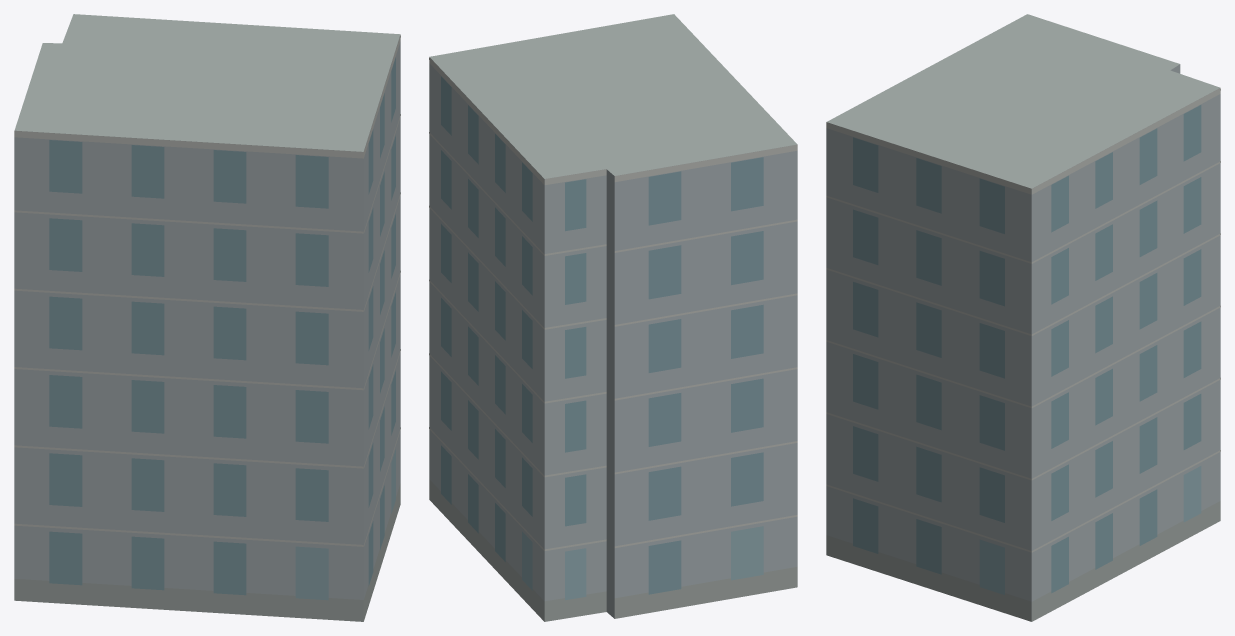
The model's file is survey-upis-32933107.glb.
3 renders of one model, left to right at view 1: azimuth 30°, elevation 25°; view 2: azimuth 150°, elevation 25°; view 3: azimuth 270°, elevation 25°, orthographic. The views are drawn at different scales.
Visible parts, largest first — view 1: survey-upis-32933107.tmp; view 2: survey-upis-32933107.tmp; view 3: survey-upis-32933107.tmp.
Boxes of the visible parts, x1,y1,x2,y2 form: survey-upis-32933107.tmp: [14, 14, 400, 621]; survey-upis-32933107.tmp: [429, 14, 797, 621]; survey-upis-32933107.tmp: [826, 14, 1220, 621].
Size of the model in its own units: 14.98 by 17.3 by 14.29.
